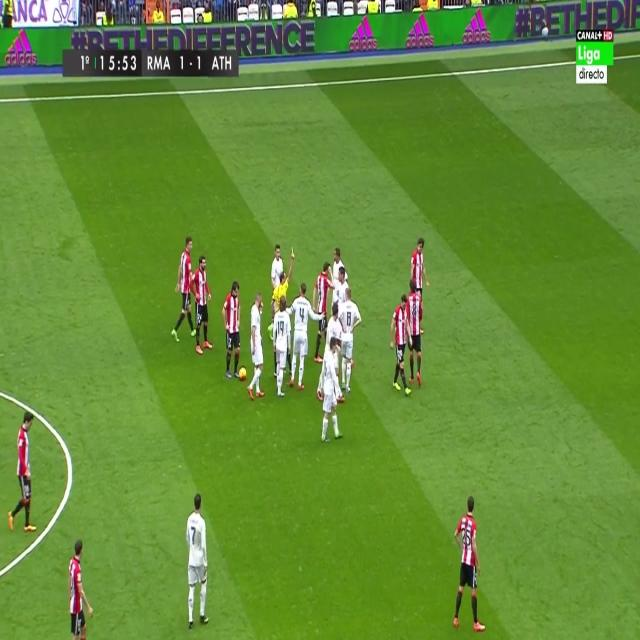Player: (452, 492, 488, 634), (287, 285, 325, 391), (6, 410, 35, 536), (186, 491, 212, 631), (168, 235, 194, 347), (188, 252, 214, 356), (67, 536, 93, 639), (319, 340, 343, 446), (339, 287, 362, 395), (388, 295, 412, 398), (405, 278, 425, 389), (220, 280, 242, 380), (272, 294, 293, 398), (247, 292, 266, 406), (312, 260, 332, 364), (409, 235, 431, 302), (329, 244, 343, 291), (270, 243, 284, 288), (334, 267, 348, 306)
Referee: (270, 246, 297, 311)
